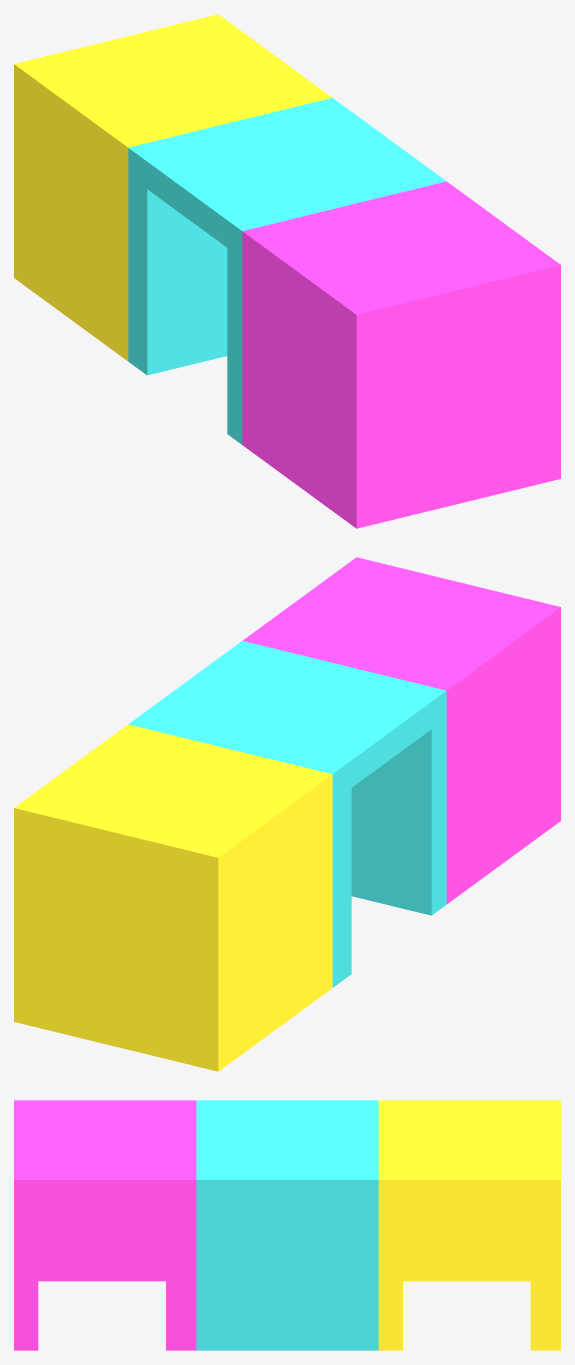
Rendered from storageRack.glb.
3 renders of one model, top to bottom at view 1: azimuth 30°, elevation 25°; view 2: azimuth 150°, elevation 25°; view 3: azimuth 270°, elevation 25°, orthographic. The views are drawn at different scales.
Parts seen in each view (by area): view 1: group_0_14093196, group_0_16768282, group_0_8768998; view 2: group_0_16768282, group_0_14093196, group_0_8768998; view 3: group_0_8768998, group_0_14093196, group_0_16768282.
Boxes of the visible parts, x1,y1,x2,y2 form: group_0_14093196: (242,181,560,528); group_0_16768282: (14,14,332,361); group_0_8768998: (128,98,446,444); group_0_16768282: (14,724,332,1071); group_0_14093196: (242,557,560,904); group_0_8768998: (128,641,446,987); group_0_8768998: (196,1100,378,1350); group_0_14093196: (14,1100,196,1350); group_0_16768282: (378,1100,560,1350).
Size of the model in its own units: 31 by 31 by 90.
